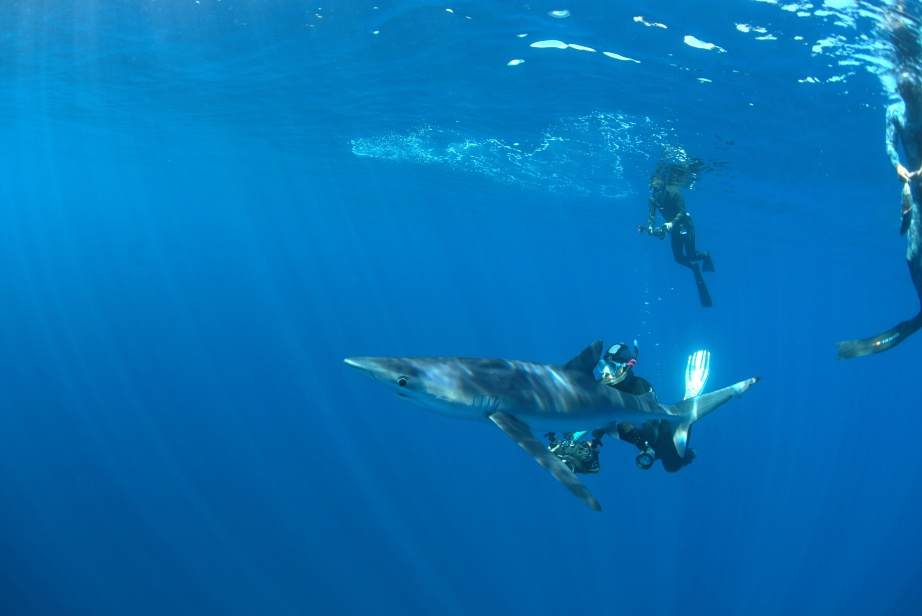Azul: (337, 309, 775, 525)
